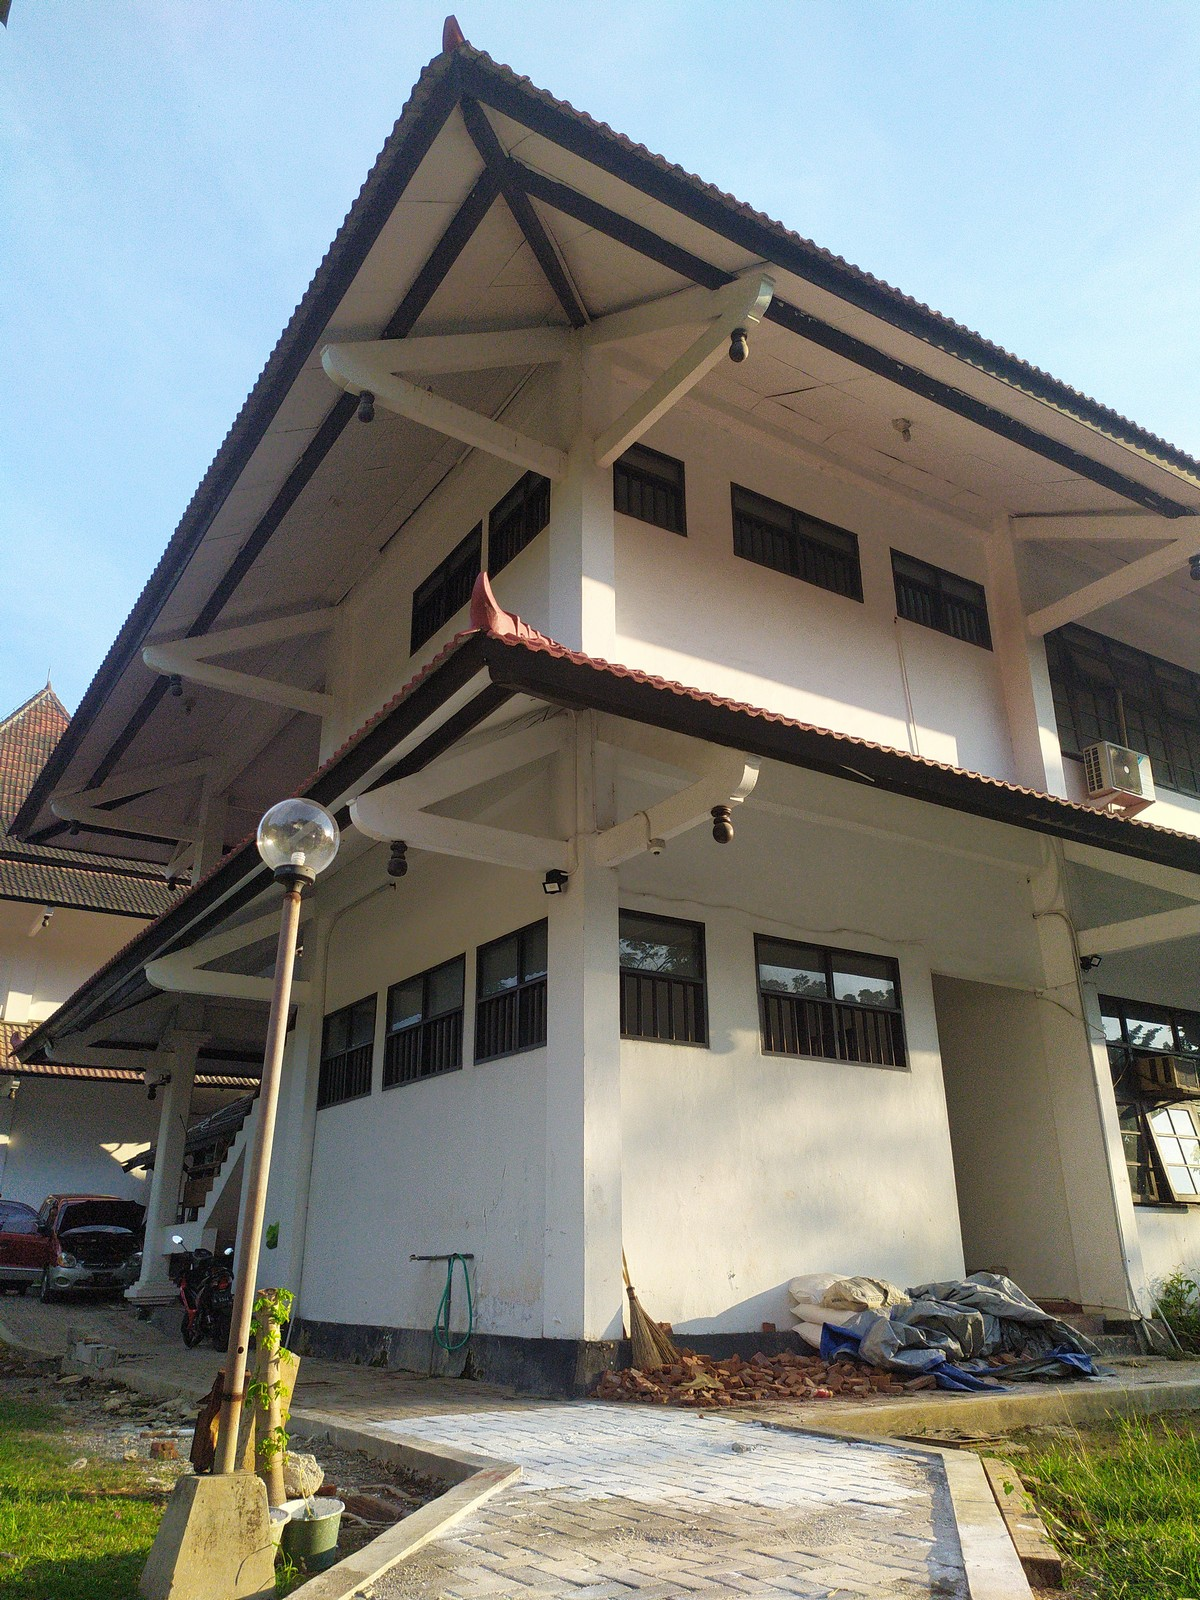concrete beam: (395, 808, 577, 881), (1063, 912, 1192, 965), (184, 968, 308, 1008)
concrete column: (1022, 848, 1160, 1317), (537, 758, 634, 1364), (542, 323, 632, 658), (977, 506, 1075, 803)
